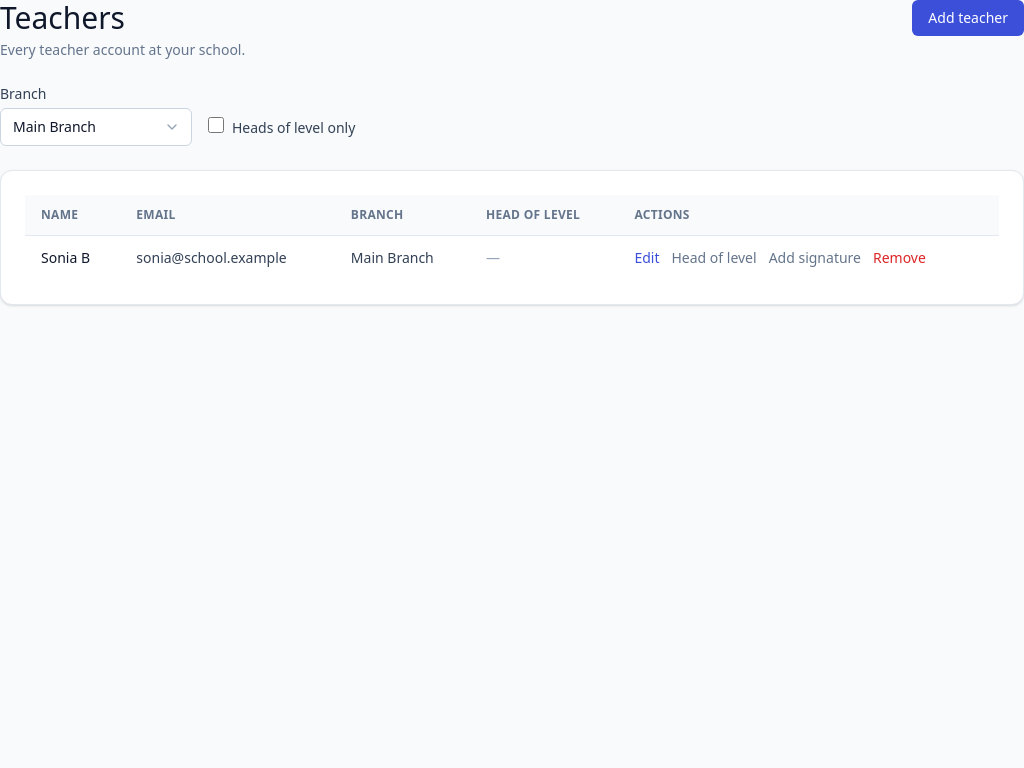
it: TeachersPage › edits a teacher with a prefilled form and no branch field, then refreshes the list
Click the button "Edit" at (647, 258), box [634,248,660,268]
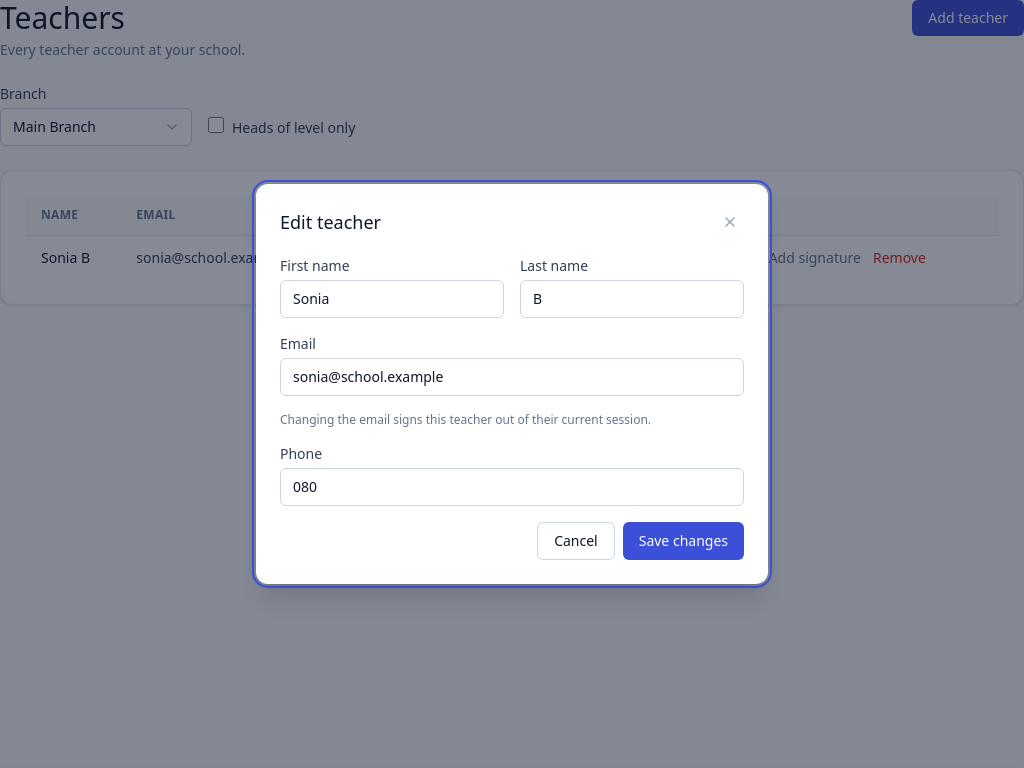
Now the field labelled "First name" holds "Sonia", box [280,280,504,318]
Now the field labelled "Last name" holds "B"
Now the field labelled "Email" holds "sonia@school.example", box [280,358,744,396]
Replace the text in the field labelled "Last name" with "Balogun" at (632, 299), box [520,280,744,318]
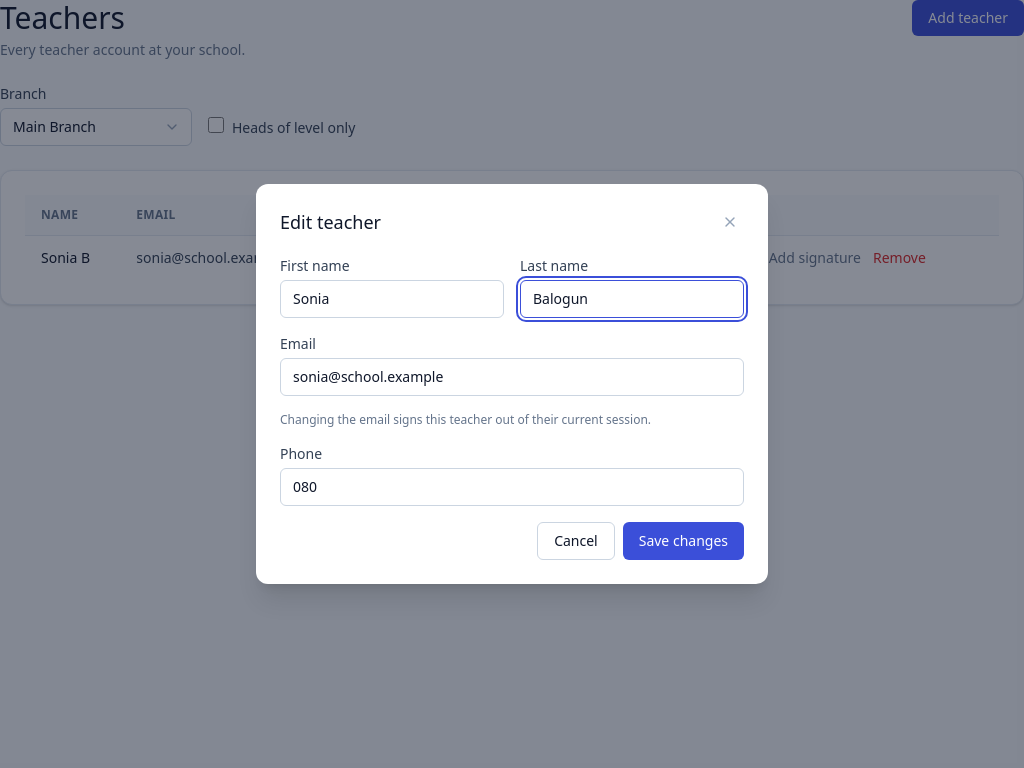
Replace the text in the field labelled "Phone" with "081" at (512, 487), box [280,468,744,506]
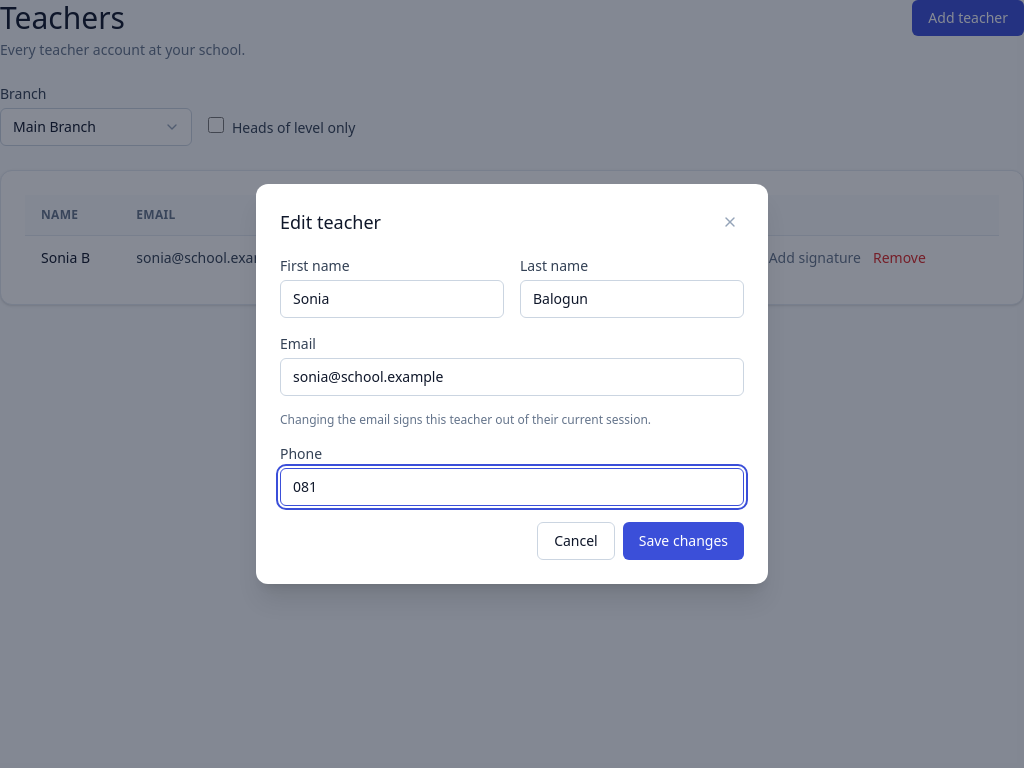
Click the button "Save changes" at (683, 541), box [623,522,744,560]
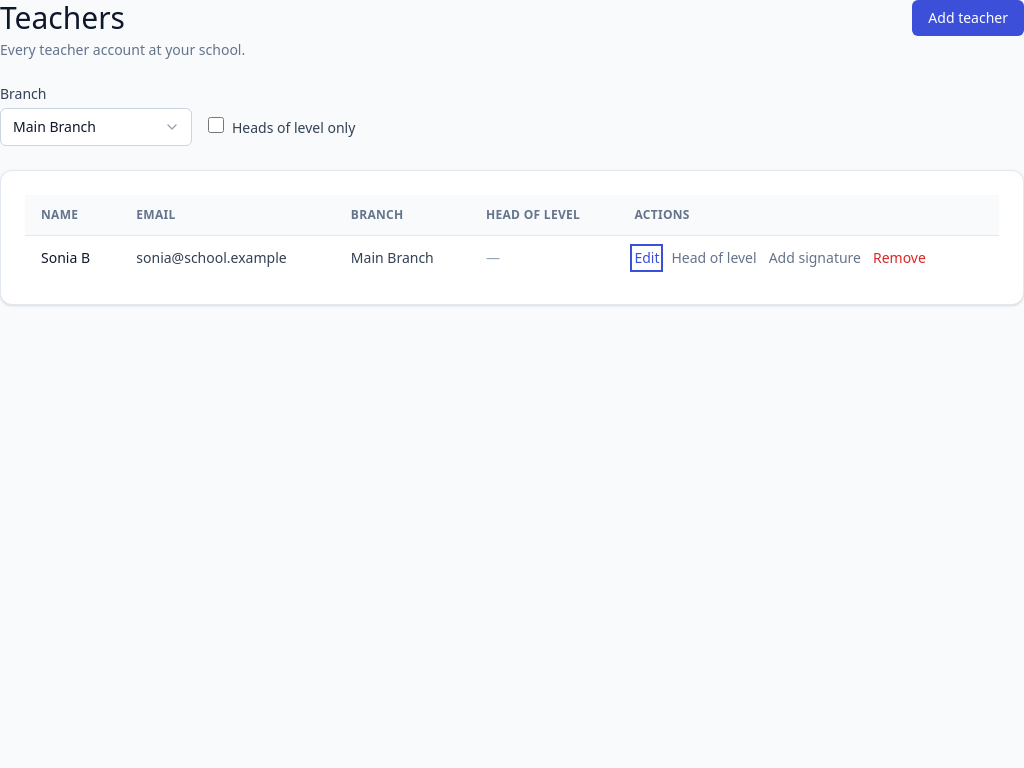
Expected: the button "Add teacher" is shown, [912,0,1023,36]
Now the dialog is gone
